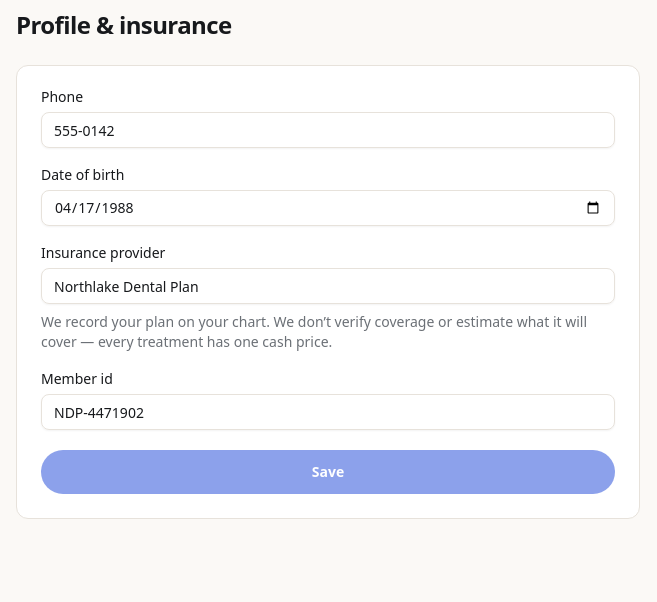
Test: saving › confirms the save and disables the button again once it lands
The image size is (657, 602).
Replace the text in the field labelled "Member id" with "NDP-NEW". click: (328, 412)
box: [41,394,615,430]
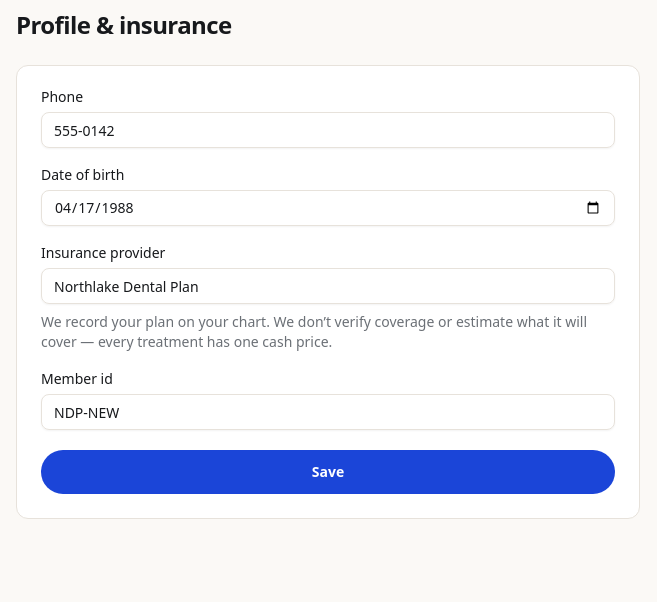
Click the button "Save". click: (328, 472)
box: [41,450,615,494]
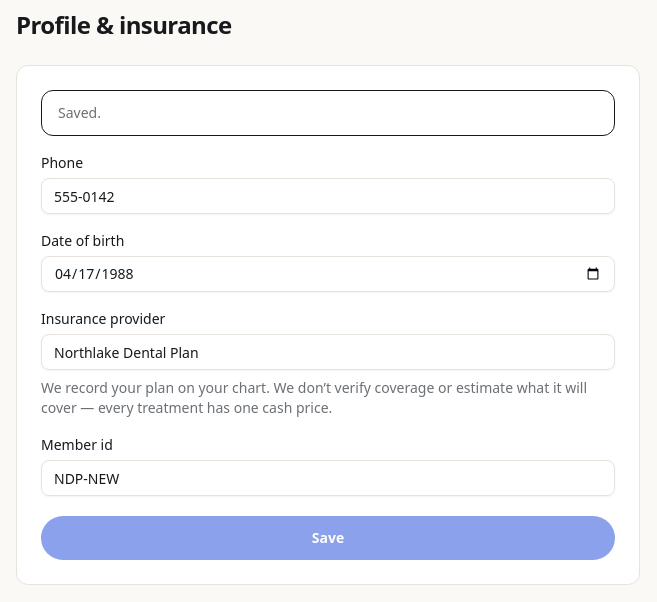
Expected: the text "Saved." is shown, [58,103,101,122]
Expected: the button "Save" is disabled, [41,516,615,560]
